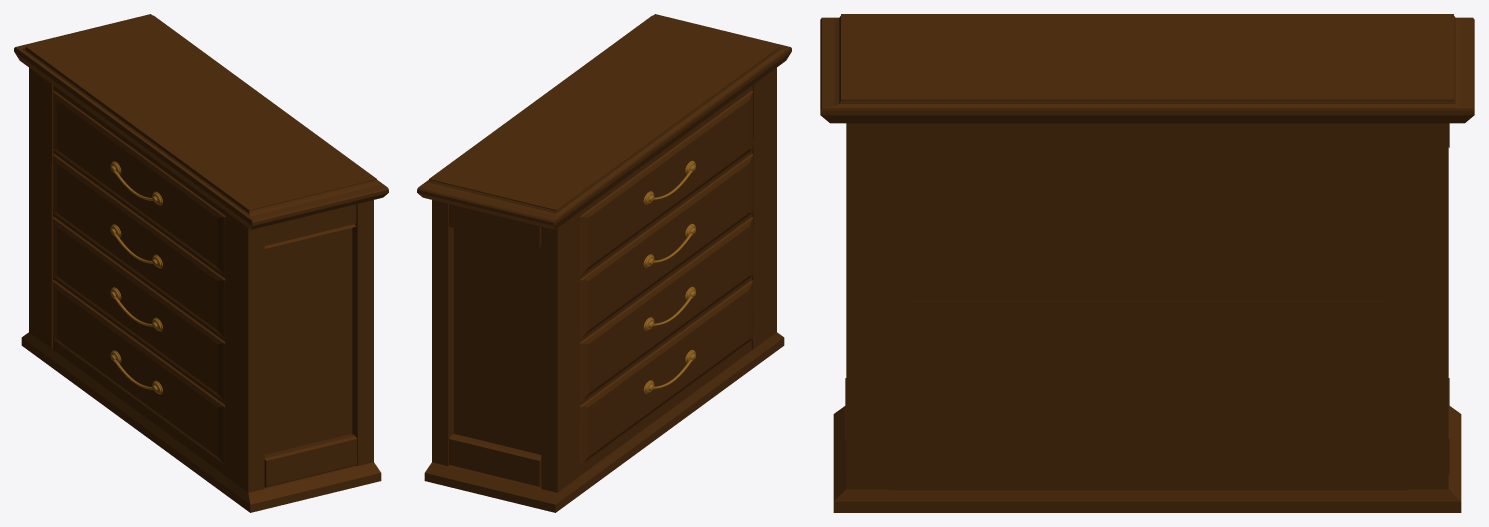
Rendered from Dresser_final.fbx.
3 renders of one model, left to right at view 1: azimuth 30°, elevation 25°; view 2: azimuth 150°, elevation 25°; view 3: azimuth 270°, elevation 25°, orthographic. The views are drawn at different scales.
Parts seen in each view (by area): view 1: Dresser, Drawer_Top_Middle, Drawer_Top, Drawer_Low_Middle, Drawer_Low; view 2: Dresser, Drawer_Low, Drawer_Low_Middle, Drawer_Top_Middle, Drawer_Top; view 3: Dresser.
Boxes of the visible parts, box(x1,y1,x2,y2) form: Dresser: box(14, 14, 388, 512); Drawer_Top_Middle: box(52, 153, 225, 337); Drawer_Top: box(52, 90, 225, 274); Drawer_Low_Middle: box(52, 217, 225, 400); Drawer_Low: box(52, 280, 224, 464); Dresser: box(417, 14, 791, 512); Drawer_Low: box(579, 280, 753, 464); Drawer_Low_Middle: box(580, 217, 753, 401); Drawer_Top_Middle: box(580, 153, 753, 338); Drawer_Top: box(580, 90, 753, 274); Dresser: box(820, 14, 1474, 512).
Size of the model in its own units: 280 by 585 by 842.
